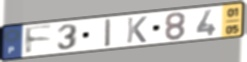3: (56, 23, 80, 51)
4: (195, 8, 218, 37)
8: (164, 11, 188, 41)
F: (23, 24, 54, 57)
I: (104, 18, 113, 49)
K: (126, 15, 149, 44)
